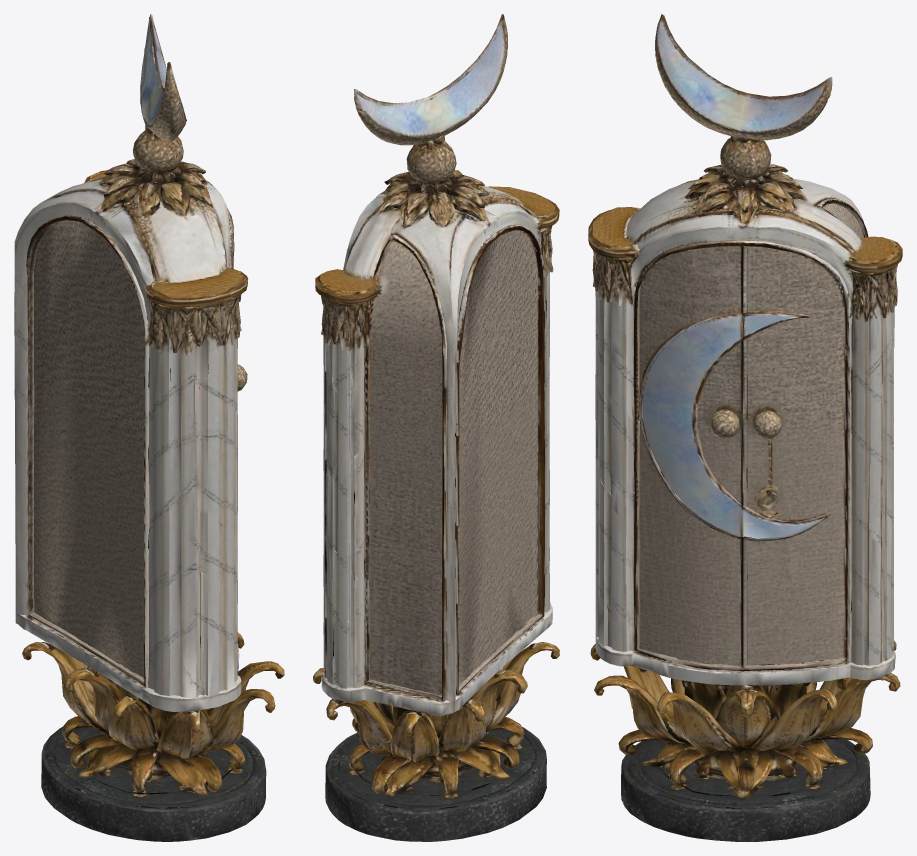
The model's file is SE-04_tall_cabinet_game.glb.
The picture shows the model from 3 angles, left to right: view 1: azimuth 30°, elevation 25°; view 2: azimuth 150°, elevation 25°; view 3: azimuth 270°, elevation 25°; orthographic projection.
Parts seen in each view (by area): view 1: SE-04_tall_cabinet; view 2: SE-04_tall_cabinet; view 3: SE-04_tall_cabinet.
Part boxes in pixels (x1,y1,x2,y2): SE-04_tall_cabinet: [14, 14, 284, 841]; SE-04_tall_cabinet: [313, 14, 559, 841]; SE-04_tall_cabinet: [588, 14, 902, 841].
Size of the model in its own units: 0.4828 by 1.9 by 0.7021.
Materials: 1 (1 with a texture image).
